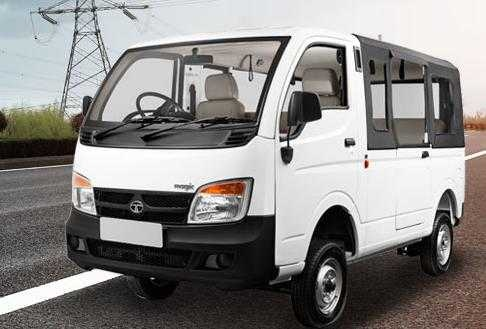van: (65, 27, 466, 329)
